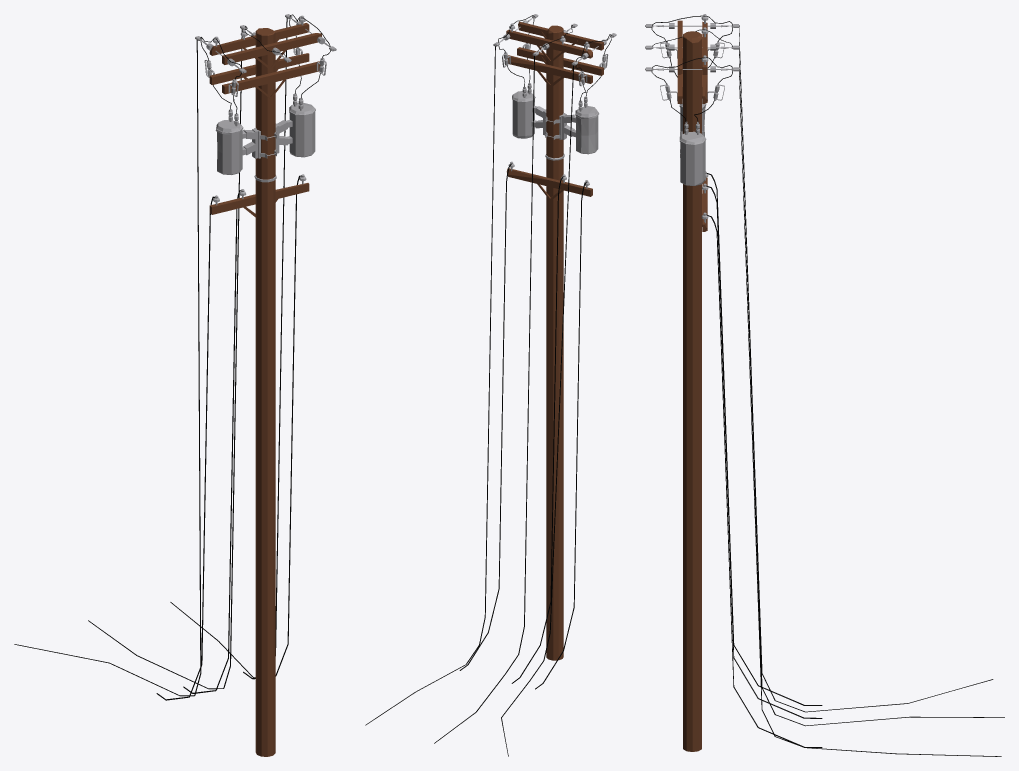
Rendered from UtillityPole_01_Broken.fbx.
3 renders of one model, left to right at view 1: azimuth 30°, elevation 25°; view 2: azimuth 150°, elevation 25°; view 3: azimuth 270°, elevation 25°, orthographic. The views are drawn at different scales.
Parts seen in each view (by area): view 1: SM_UtilityPole_01_Broken.mo; view 2: SM_UtilityPole_01_Broken.mo; view 3: SM_UtilityPole_01_Broken.mo.
Part boxes in pixels (x1,y1,x2,y2): SM_UtilityPole_01_Broken.mo: (14,14,336,756); SM_UtilityPole_01_Broken.mo: (365,14,616,756); SM_UtilityPole_01_Broken.mo: (645,14,1004,756).
Bounding box in the file's own units: 193 × 827 × 379.
